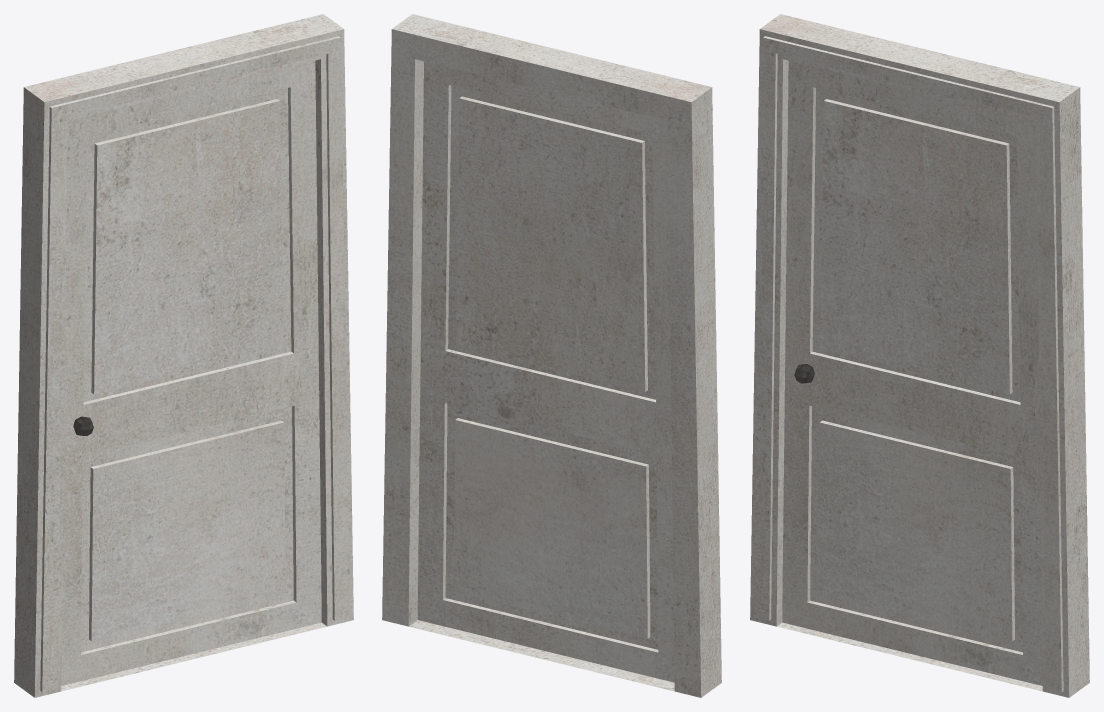
Rendered from door 1.glb.
The picture shows the model from 3 angles, left to right: view 1: azimuth 30°, elevation 25°; view 2: azimuth 150°, elevation 25°; view 3: azimuth 330°, elevation 25°; orthographic projection.
Visible parts, largest first — view 1: DOORFINAL.001, DOORFINAL; view 2: DOORFINAL.001, DOORFINAL; view 3: DOORFINAL.001, DOORFINAL.
Boxes of the visible parts, bbox=[...] form: DOORFINAL.001: bbox=[61, 60, 321, 685]; DOORFINAL: bbox=[14, 14, 353, 697]; DOORFINAL.001: bbox=[417, 61, 674, 682]; DOORFINAL: bbox=[382, 14, 721, 697]; DOORFINAL.001: bbox=[782, 60, 1042, 685]; DOORFINAL: bbox=[750, 14, 1089, 697].
Bounding box in the file's own units: 2.16 × 3.84 × 0.2686.
Materials: 2 (2 with a texture image).
